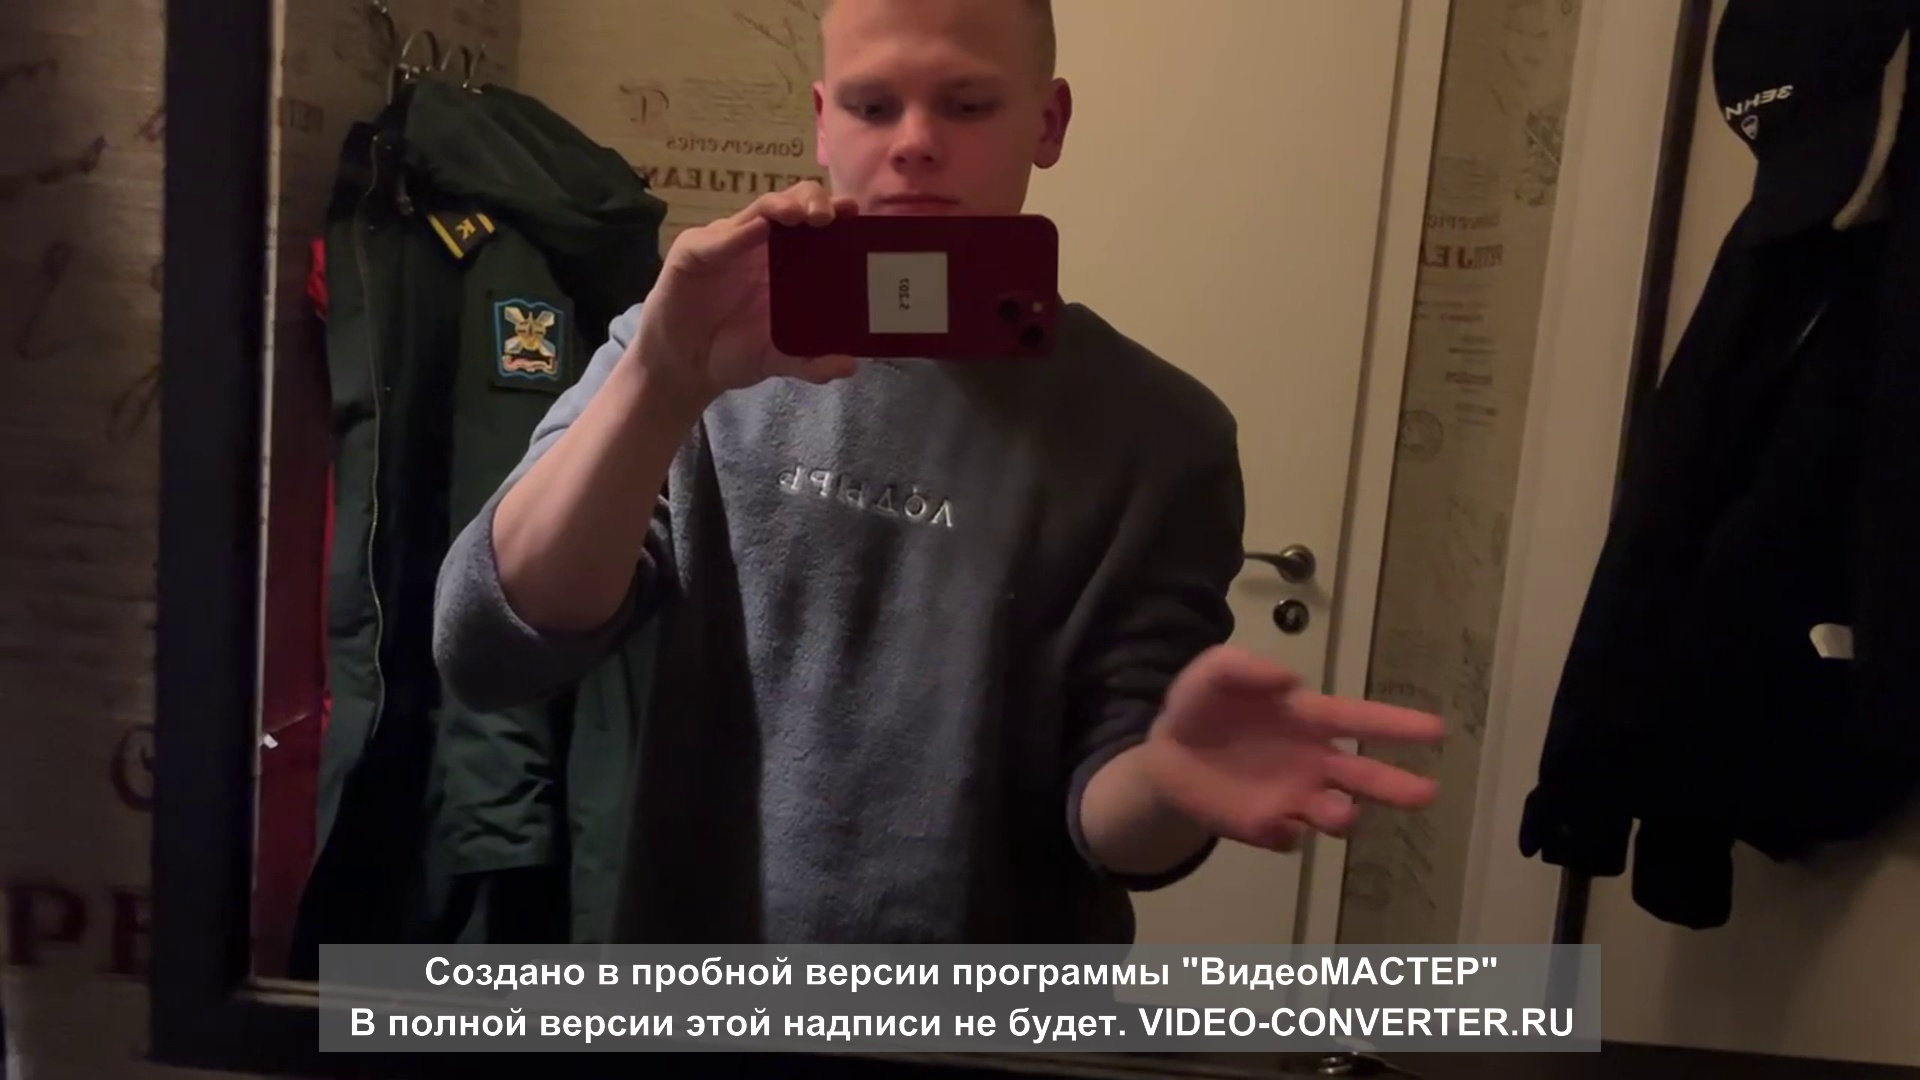Ладонь: (1154, 645, 1443, 856)
